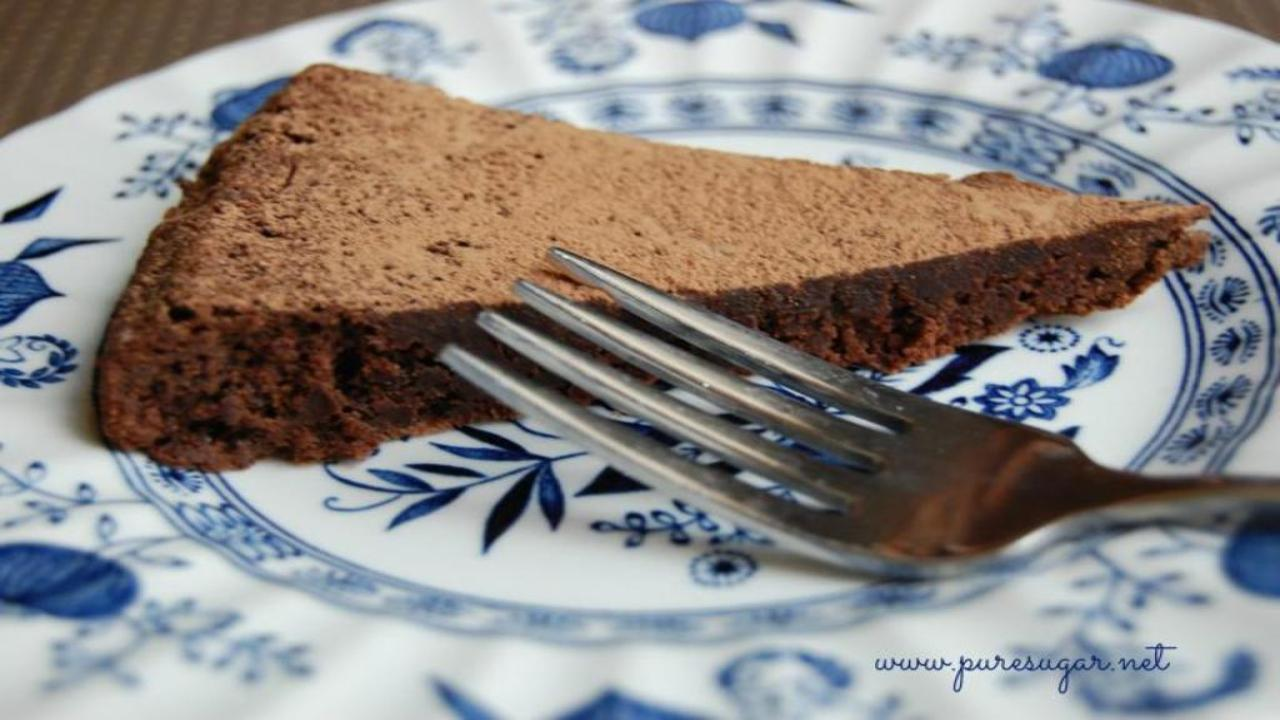fork: (427, 245, 1280, 579)
